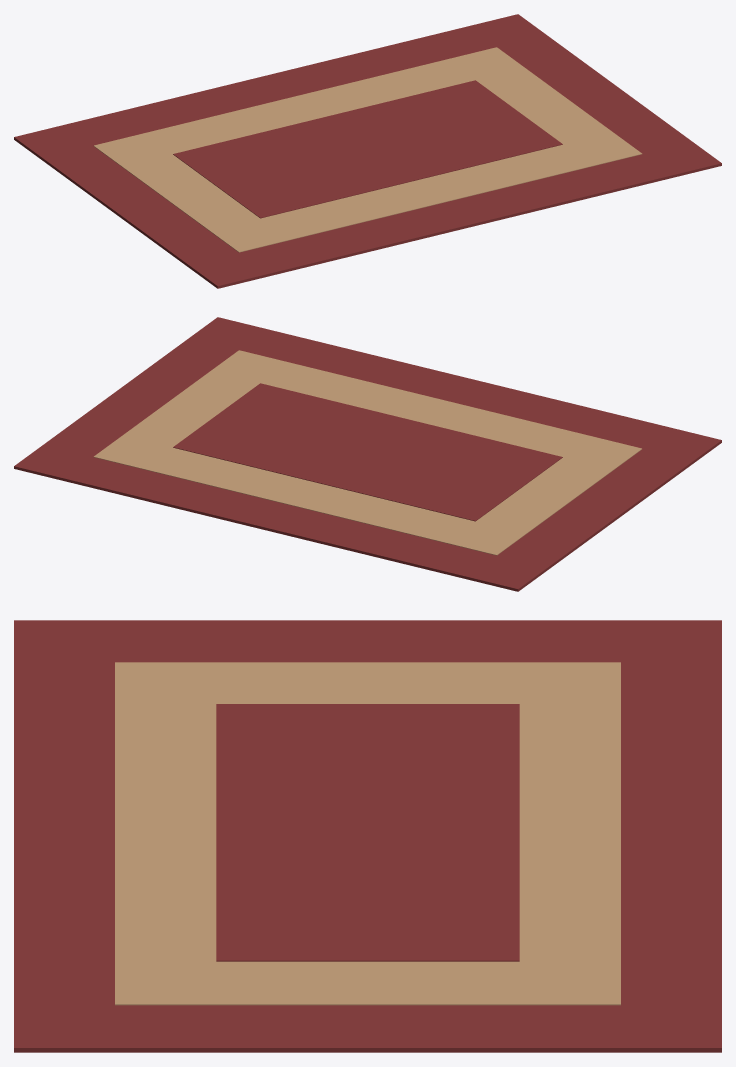
The model's file is rug.glb.
3 renders of one model, top to bottom at view 1: azimuth 30°, elevation 25°; view 2: azimuth 150°, elevation 25°; view 3: azimuth 270°, elevation 25°, orthographic. The views are drawn at different scales.
Visible parts, largest first — view 1: rug; view 2: rug; view 3: rug.
Boxes of the visible parts, left/top/right/bottom form: rug: left=14, top=14, right=721, bottom=288; rug: left=14, top=317, right=721, bottom=591; rug: left=14, top=620, right=721, bottom=1052.
Size of the model in its own units: 2 by 0.014 by 1.4.
